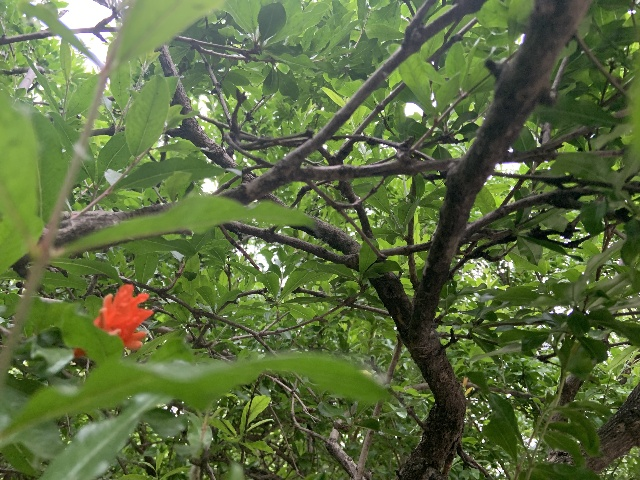flower: (73, 282, 153, 357)
